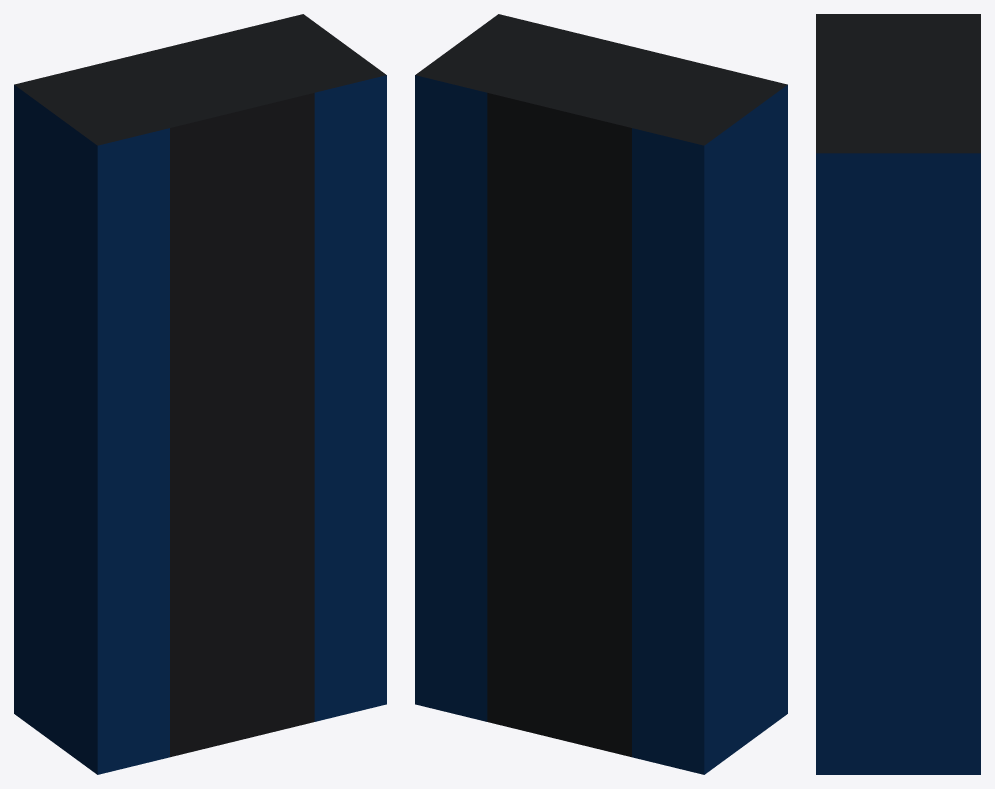
Rendered from enemy_thinker_legs.gltf.
3 views of the same model, side by side, from view 1: azimuth 30°, elevation 25°; view 2: azimuth 150°, elevation 25°; view 3: azimuth 270°, elevation 25° (orthographic).
Parts seen in each view (by area): view 1: enemy_thinker_legs; view 2: enemy_thinker_legs; view 3: enemy_thinker_legs.
Part boxes in pixels (box(x1,y1,x2,y2)): enemy_thinker_legs: box(14, 14, 386, 774); enemy_thinker_legs: box(415, 14, 787, 774); enemy_thinker_legs: box(816, 14, 980, 774).
Size of the model in its own units: 2 by 4.16 by 1.
